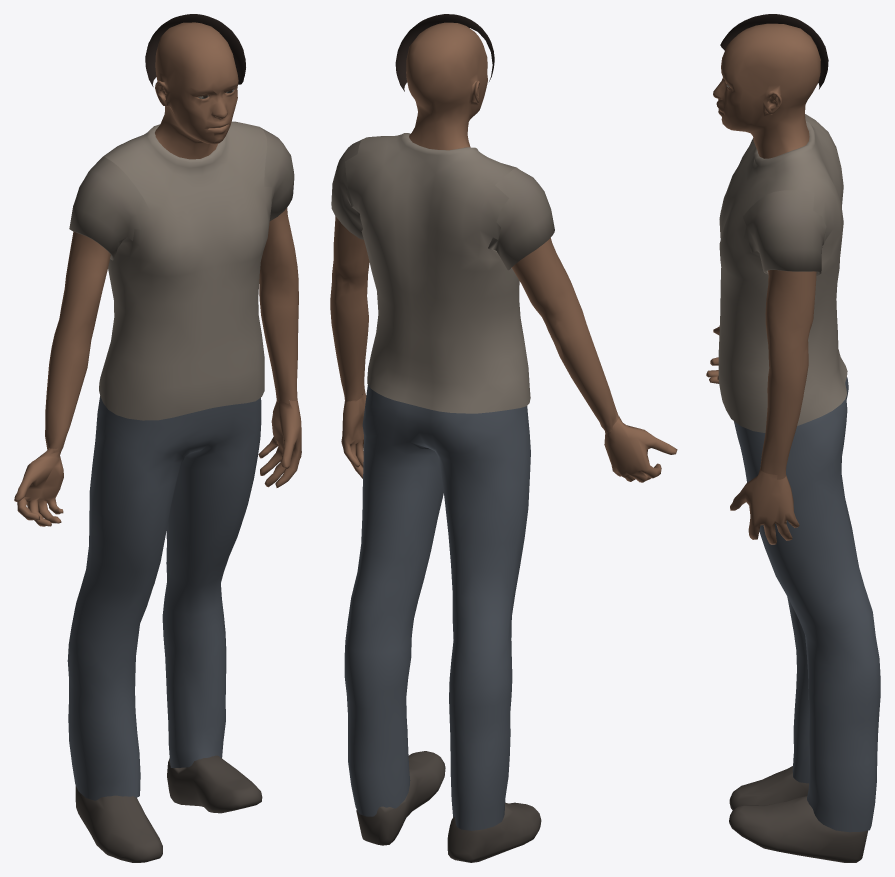
File: participant-08-middle.glb
The picture shows the model from 3 angles, left to right: view 1: azimuth 30°, elevation 25°; view 2: azimuth 150°, elevation 25°; view 3: azimuth 270°, elevation 25°; orthographic projection. The views are drawn at different scales.
Parts seen in each view (by area): view 1: Participant anatomy and ordinary clothes; view 2: Participant anatomy and ordinary clothes; view 3: Participant anatomy and ordinary clothes.
Part boxes in pixels (x1,y1,x2,y2): Participant anatomy and ordinary clothes: (14, 14, 301, 862); Participant anatomy and ordinary clothes: (330, 14, 677, 862); Participant anatomy and ordinary clothes: (706, 14, 880, 862).
Size of the model in its own units: 0.7051 by 1.74 by 0.334.
